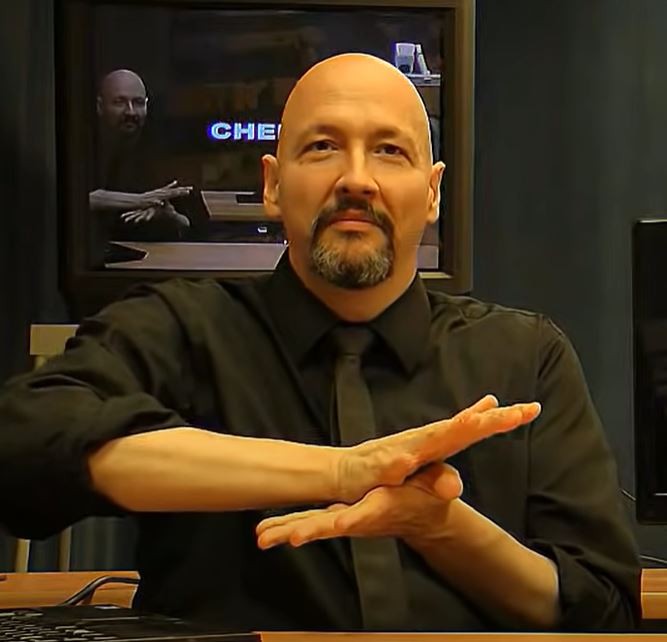Cheese: (209, 386, 552, 558)
